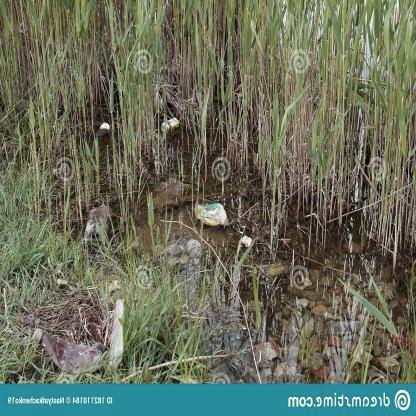Plastic: (28, 323, 105, 378), (82, 199, 113, 249)
Trash: (104, 295, 125, 368), (193, 192, 231, 232)
